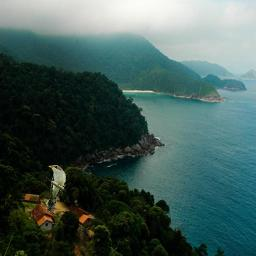Cuckoo: (46, 165, 66, 212)
